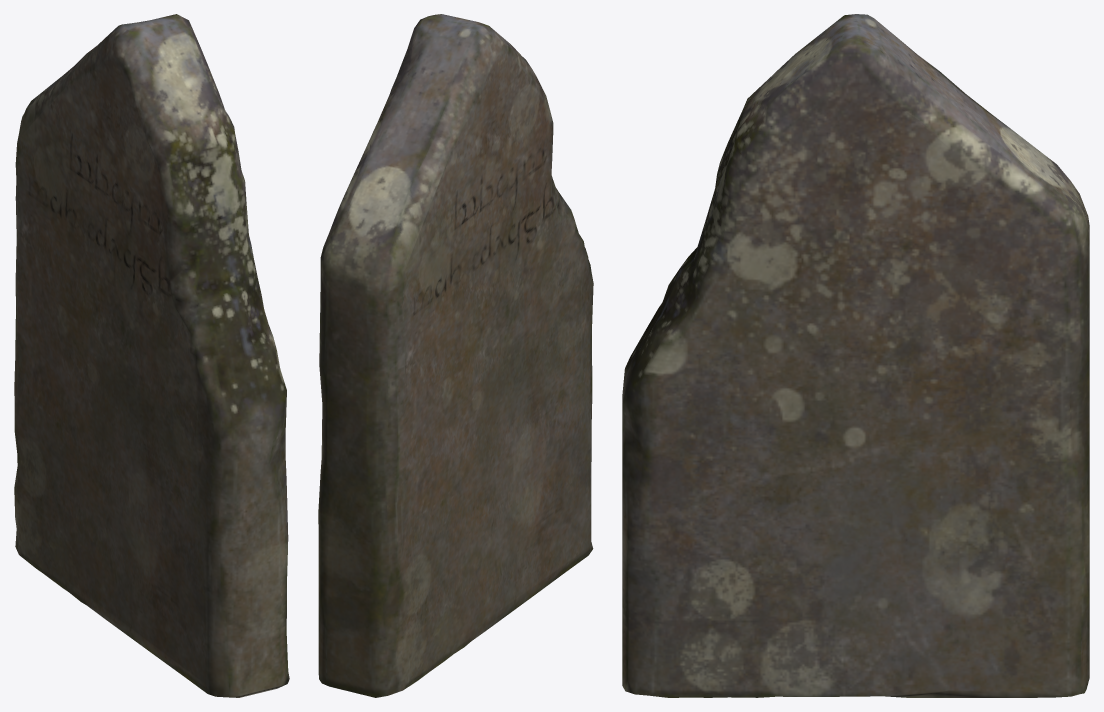
File: SM_TombsBroken_002.fbx
The picture shows the model from 3 angles, left to right: view 1: azimuth 30°, elevation 25°; view 2: azimuth 150°, elevation 25°; view 3: azimuth 270°, elevation 25°; orthographic projection. The views are drawn at different scales.
Visible parts, largest first — view 1: SM_TombsBroken_002_LOD0; view 2: SM_TombsBroken_002_LOD0; view 3: SM_TombsBroken_002_LOD0.
Boxes of the visible parts, left/top/right/bottom form: SM_TombsBroken_002_LOD0: left=14, top=14, right=289, bottom=697; SM_TombsBroken_002_LOD0: left=318, top=14, right=593, bottom=697; SM_TombsBroken_002_LOD0: left=622, top=14, right=1089, bottom=697.
Bounding box in the file's own units: 10.22 × 47.42 × 72.93.
1 material, 1 textured.
